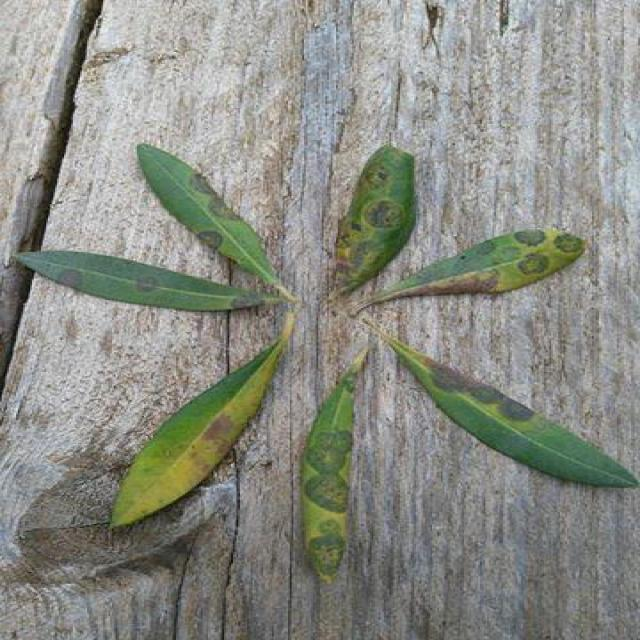Peacock Eye: (389, 340, 638, 487), (112, 335, 284, 525), (139, 144, 277, 285), (372, 229, 583, 303), (302, 349, 366, 581), (20, 251, 265, 311), (331, 145, 416, 295)
